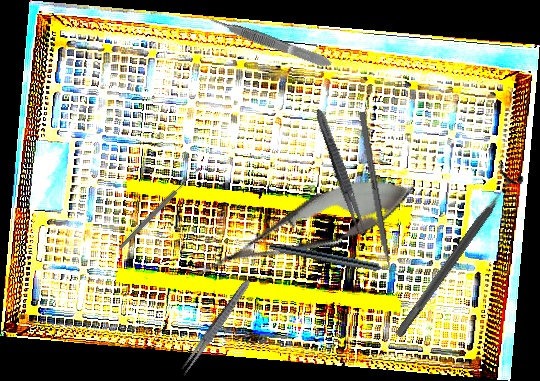Dressing Forceps: (311, 106, 372, 241), (178, 277, 253, 378)
Fixation Ring: (384, 161, 528, 345)
Handpiece: (268, 241, 401, 279)
Micro Scissor: (185, 158, 425, 300)
Pusher: (358, 111, 397, 294)
Surgical Spoon: (118, 166, 202, 250)
Tissue Forceps: (206, 12, 334, 71)
